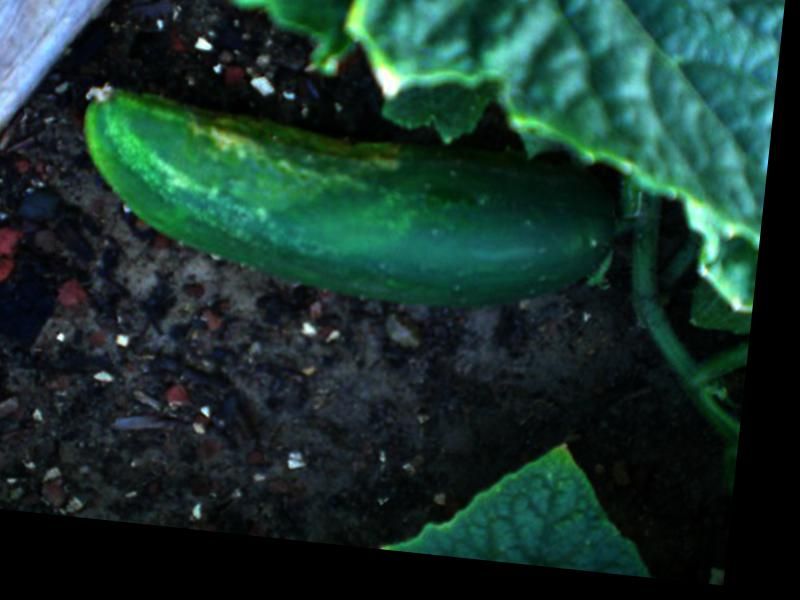Cucumber: (67, 81, 623, 322)
